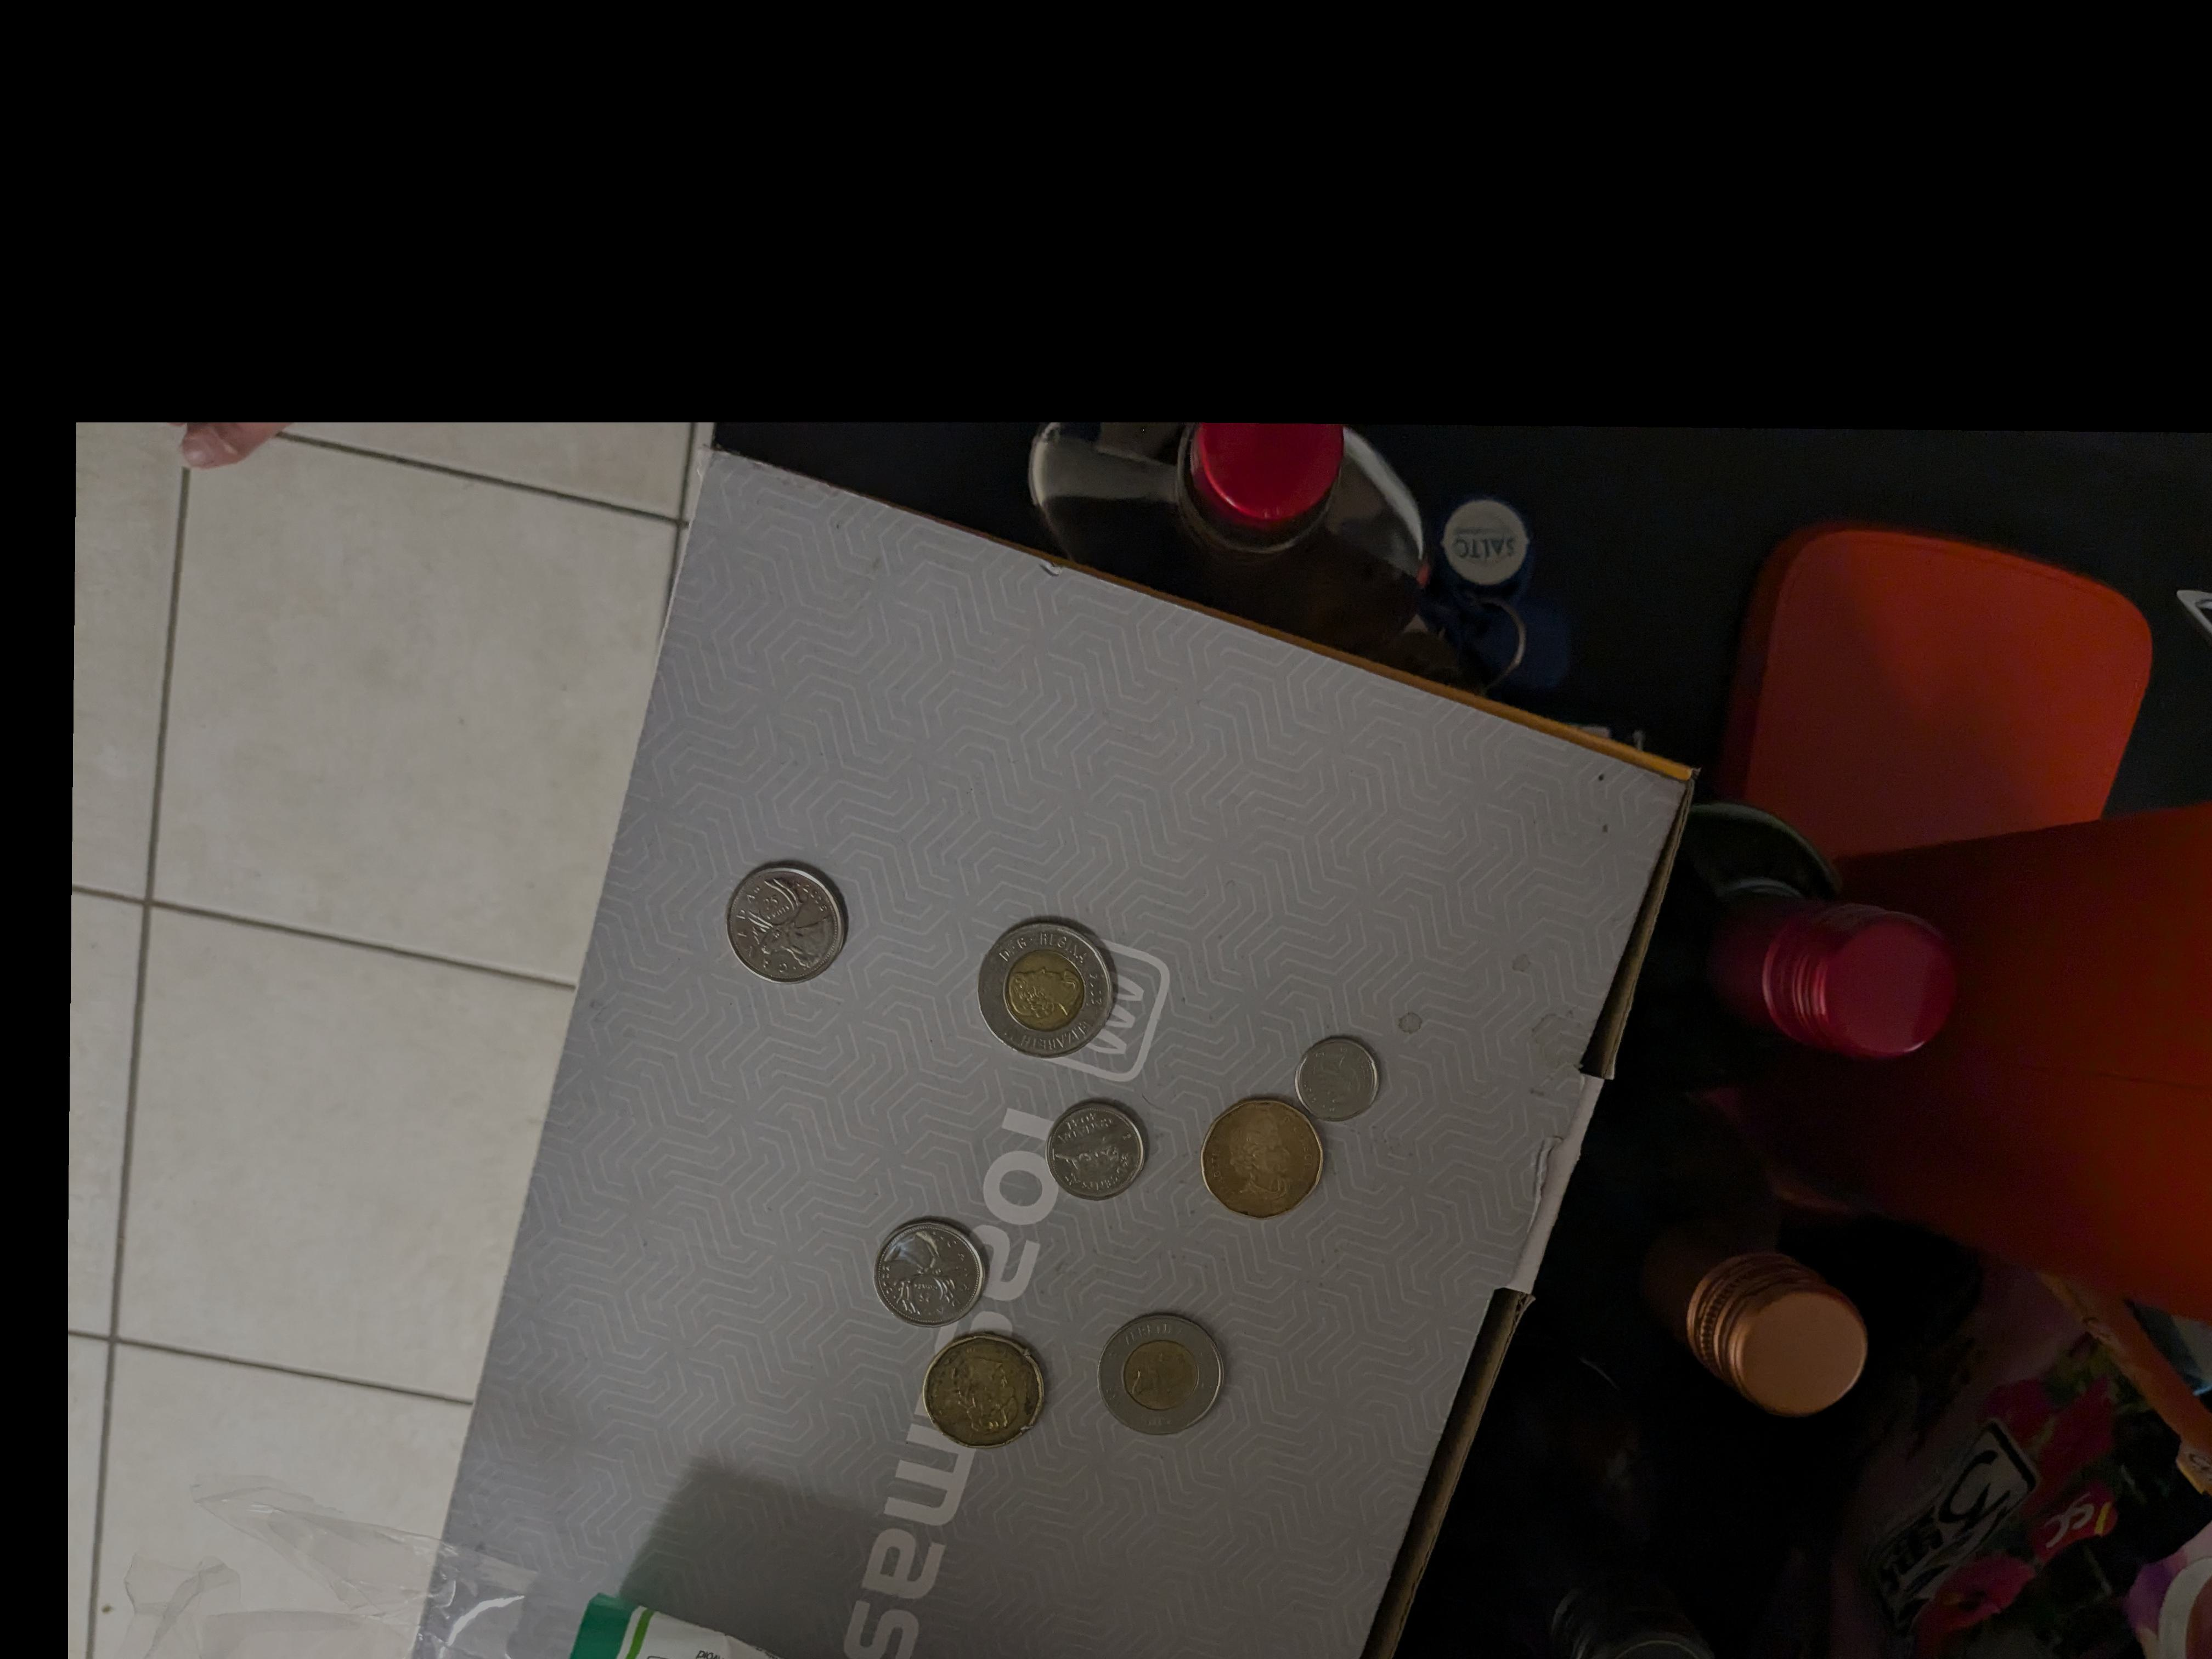dime: (1298, 1032, 1385, 1122)
loonie: (1193, 1089, 1324, 1223), (928, 1330, 1050, 1452)
nickel: (1047, 1101, 1148, 1204)
quarter: (726, 864, 846, 990), (874, 1220, 986, 1328)
toonie: (975, 917, 1118, 1060), (1099, 1314, 1228, 1441)
